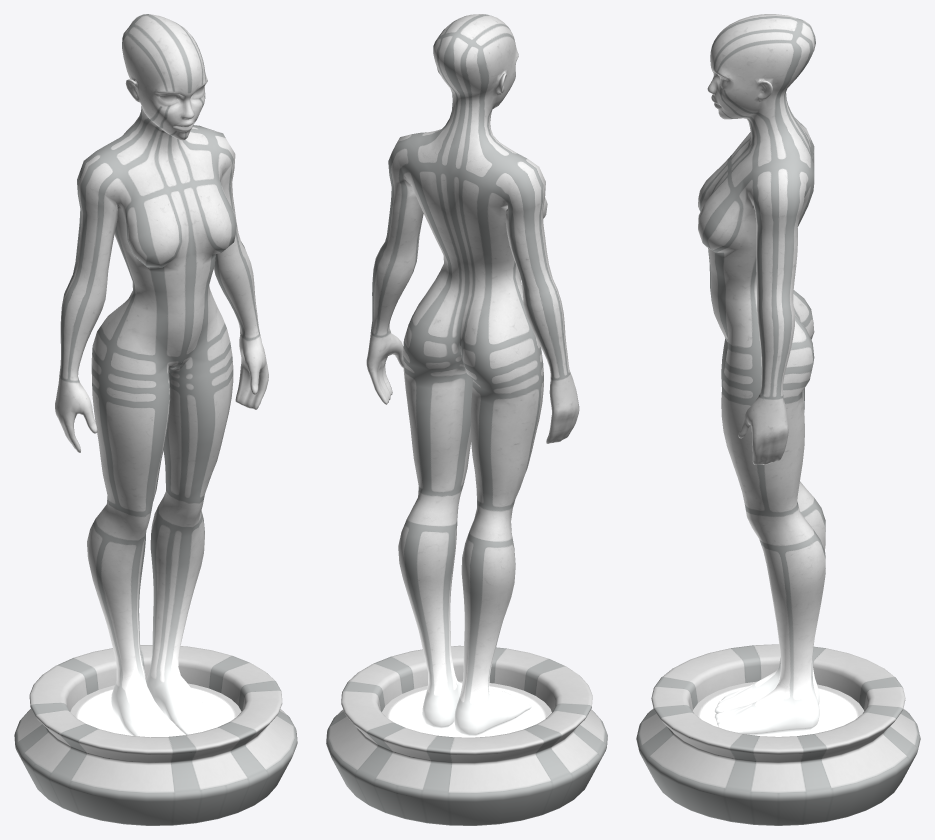
Rendered from Statue02.FBX.
The picture shows the model from 3 angles, left to right: view 1: azimuth 30°, elevation 25°; view 2: azimuth 150°, elevation 25°; view 3: azimuth 270°, elevation 25°; orthographic projection.
Visible parts, largest first — view 1: Statue02; view 2: Statue02; view 3: Statue02.
Part boxes in pixels (x1=…): Statue02: x1=14, y1=14, x2=297, y2=825; Statue02: x1=326, y1=14, x2=607, y2=825; Statue02: x1=636, y1=14, x2=920, y2=825.
Size of what is drawn, in the model's own units: 0.6417 by 1.88 by 0.6417.
